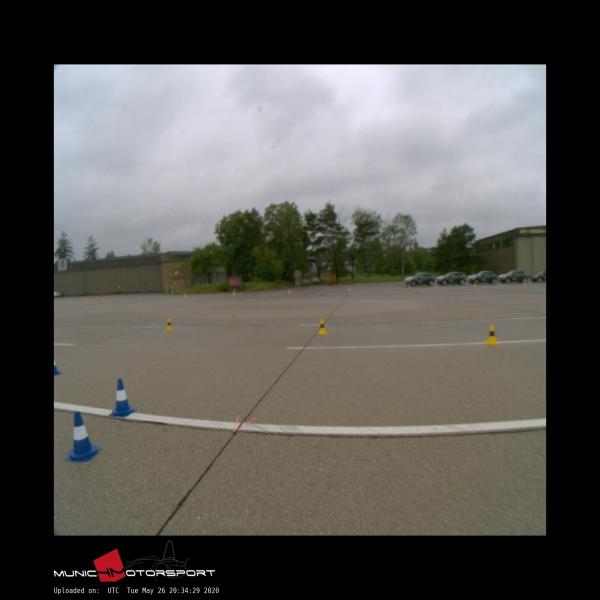blue_cone: (66, 412, 102, 461), (109, 379, 137, 417)
yellow_cone: (486, 325, 499, 344), (318, 319, 327, 334), (166, 319, 173, 330)
